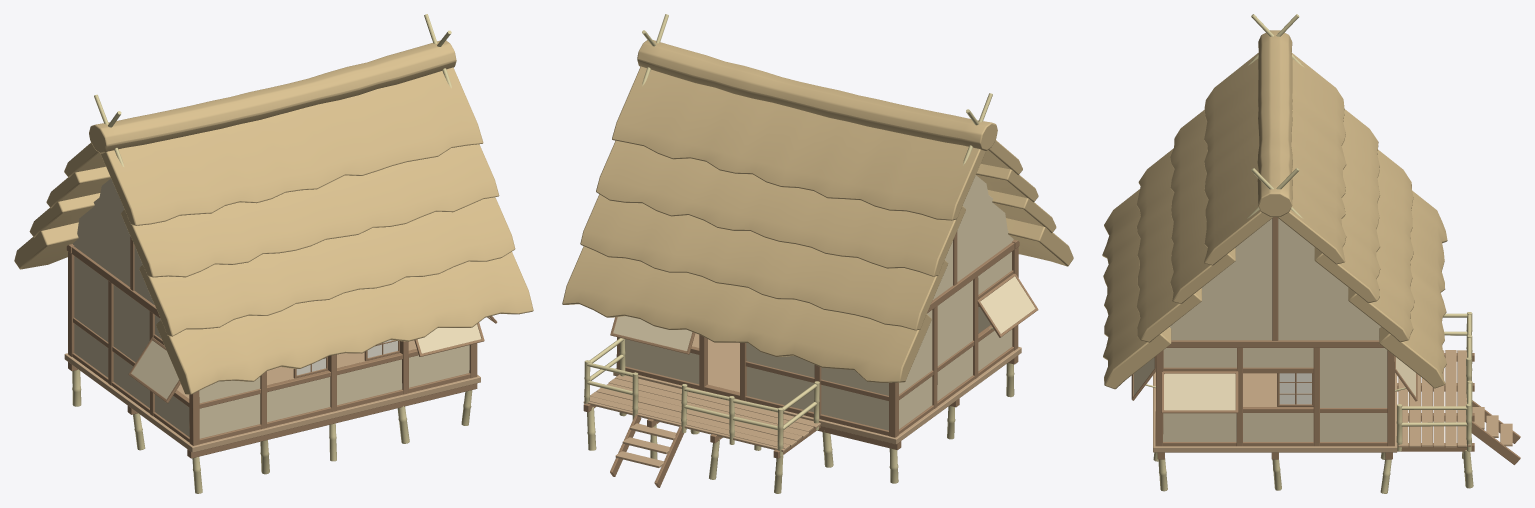
File: house_land_16838.glb
3 renders of one model, left to right at view 1: azimuth 30°, elevation 25°; view 2: azimuth 150°, elevation 25°; view 3: azimuth 270°, elevation 25°, orthographic. The views are drawn at different scales.
Parts seen in each view (by area): view 1: land_16838_thatch, land_16838_sawali, land_16838_timber, land_16838_plank, land_16838_bamboo, land_16838_capiz; view 2: land_16838_thatch, land_16838_sawali, land_16838_plank, land_16838_timber, land_16838_bamboo; view 3: land_16838_thatch, land_16838_sawali, land_16838_timber, land_16838_plank, land_16838_bamboo, land_16838_capiz.
Boxes of the visible parts, x1=… form: land_16838_thatch: x1=14, y1=40, x2=533, y2=394; land_16838_sawali: x1=73, y1=178, x2=491, y2=438; land_16838_timber: x1=66, y1=236, x2=497, y2=458; land_16838_plank: x1=64, y1=340, x2=480, y2=452; land_16838_bamboo: x1=72, y1=14, x2=472, y2=493; land_16838_capiz: x1=296, y1=340, x2=397, y2=375; land_16838_thatch: x1=562, y1=40, x2=1073, y2=382; land_16838_sawali: x1=613, y1=175, x2=1035, y2=430; land_16838_plank: x1=583, y1=333, x2=1021, y2=467; land_16838_timber: x1=583, y1=231, x2=1038, y2=487; land_16838_bamboo: x1=584, y1=14, x2=1014, y2=493; land_16838_thatch: x1=1102, y1=30, x2=1447, y2=389; land_16838_sawali: x1=1133, y1=218, x2=1415, y2=441; land_16838_timber: x1=1131, y1=217, x2=1520, y2=464; land_16838_plank: x1=1153, y1=350, x2=1512, y2=452; land_16838_bamboo: x1=1145, y1=14, x2=1473, y2=493; land_16838_capiz: x1=1279, y1=373, x2=1311, y2=404.
Size of the model in its own units: 9.33 by 8.97 by 10.11.
